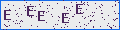E: (76, 4, 84, 14), (62, 13, 70, 23), (38, 11, 46, 21), (27, 6, 34, 17), (4, 10, 11, 20)
